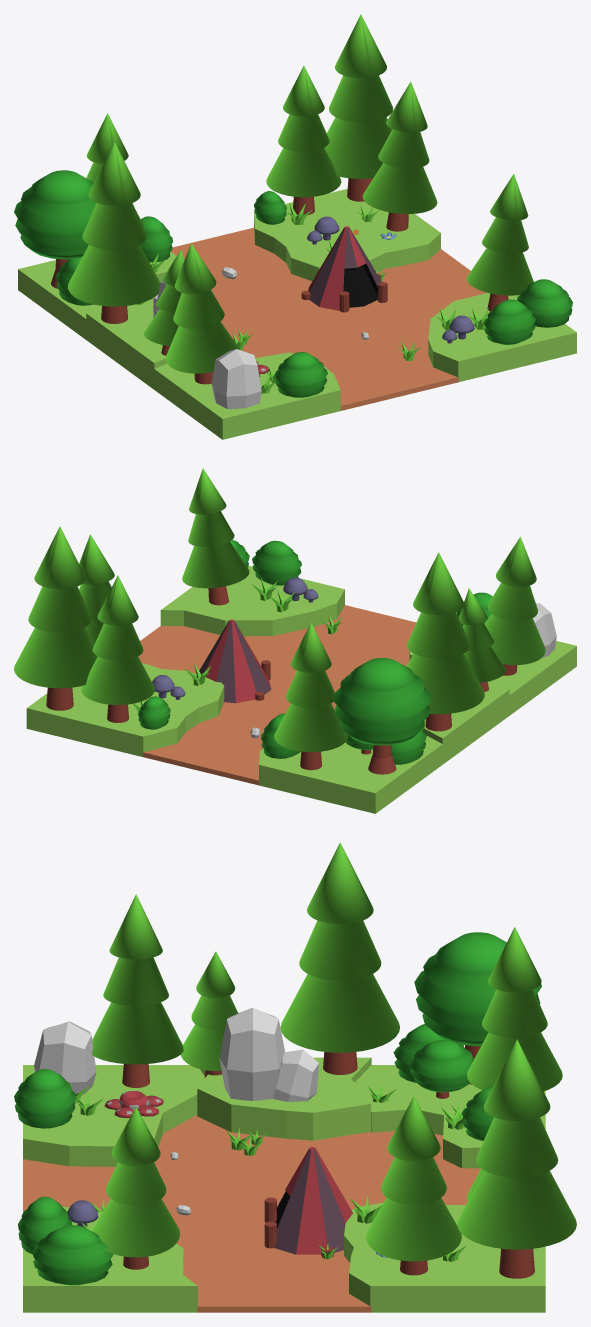
The model's file is jungle level set - 3 Way (4).fbx.
3 renders of one model, top to bottom at view 1: azimuth 30°, elevation 25°; view 2: azimuth 150°, elevation 25°; view 3: azimuth 270°, elevation 25°, orthographic. The views are drawn at different scales.
Parts seen in each view (by area): view 1: land_platform, tree_008, tree_001, tree_002, tree, tree_003, tree_005, tree_006, camp, stone_004, bush_005, bush (+6 smaller); view 2: land_platform, tree_001, tree_008, tree_003, tree, tree_007, tree_005, tree_006, camp, tree_009, tree_002, bush_004 (+4 smaller); view 3: land_platform, tree_001, tree_008, tree_005, tree_002, tree_006, tree_007, tree_003, camp, stone, tree_009, bush (+9 smaller).
Boxes of the visible parts, left/top/right/bottom form: land_platform: left=18, top=189, right=576, bottom=439; tree_008: left=68, top=142, right=160, bottom=323; tree_001: left=324, top=14, right=392, bottom=201; tree_002: left=362, top=81, right=437, bottom=231; tree: left=266, top=65, right=341, bottom=214; tree_003: left=14, top=170, right=96, bottom=288; tree_005: left=165, top=243, right=239, bottom=384; tree_006: left=466, top=174, right=533, bottom=311; camp: left=301, top=226, right=387, bottom=312; stone_004: left=211, top=349, right=261, bottom=409; bush_005: left=274, top=352, right=327, bottom=397; bush: left=517, top=279, right=572, bottom=327; land_platform: left=26, top=565, right=576, bottom=813; tree_001: left=14, top=526, right=97, bottom=710; tree_008: left=406, top=552, right=484, bottom=731; tree_003: left=334, top=658, right=430, bottom=774; tree: left=81, top=575, right=154, bottom=722; tree_007: left=274, top=622, right=347, bottom=770; tree_005: left=484, top=537, right=545, bottom=675; tree_006: left=182, top=468, right=249, bottom=605; camp: left=199, top=619, right=271, bottom=703; tree_009: left=459, top=588, right=505, bottom=691; tree_002: left=79, top=534, right=114, bottom=644; bush_004: left=252, top=540, right=301, bottom=585; land_platform: left=23, top=1057, right=545, bottom=1312; tree_001: left=457, top=1039, right=576, bottom=1278; tree_008: left=280, top=842, right=399, bottom=1074; tree_005: left=91, top=894, right=183, bottom=1087; tree_002: left=366, top=1096, right=461, bottom=1275; tree_006: left=92, top=1107, right=179, bottom=1269; tree_007: left=467, top=927, right=562, bottom=1091; tree_003: left=414, top=932, right=541, bottom=1084; camp: left=264, top=1147, right=352, bottom=1256; stone: left=219, top=1007, right=284, bottom=1100; tree_009: left=181, top=951, right=237, bottom=1077; bush: left=32, top=1225, right=113, bottom=1285.
Size of the model in its own units: 16.99 by 8.5 by 16.34.
